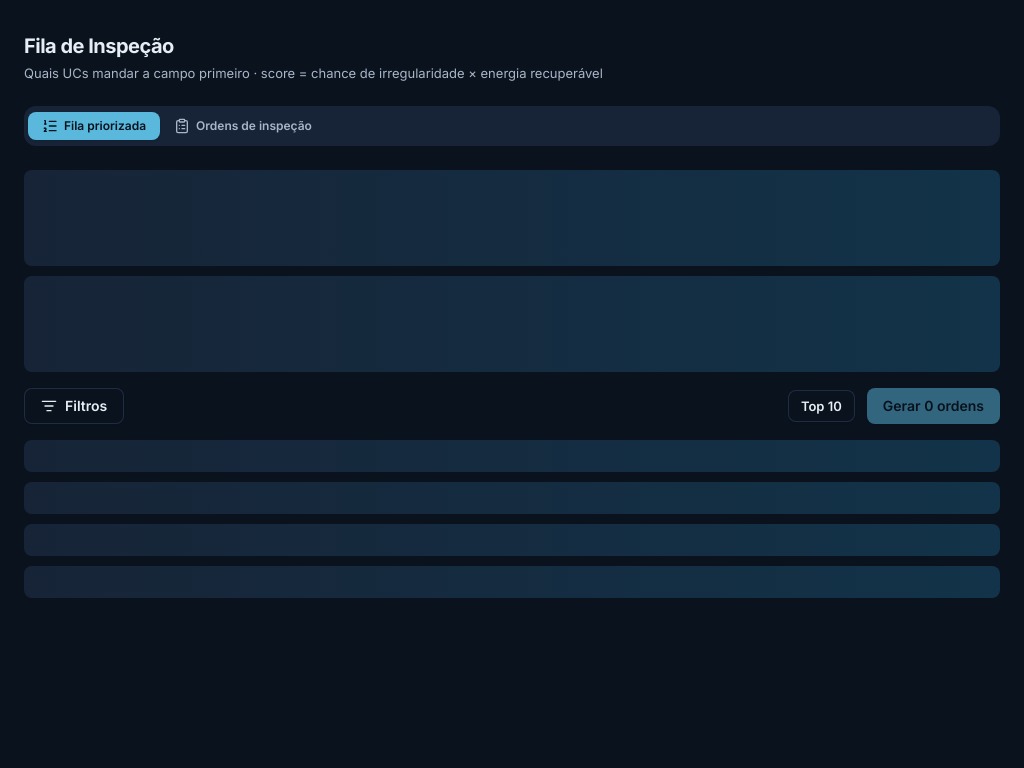
it: LossManagementPage - erros e estados de envio › sinaliza o envio em andamento no cancelamento
This screenshot has width=1024, height=768.
Click the tab "Ordens de inspeção": (243, 126) left=160, top=112, right=326, bottom=140
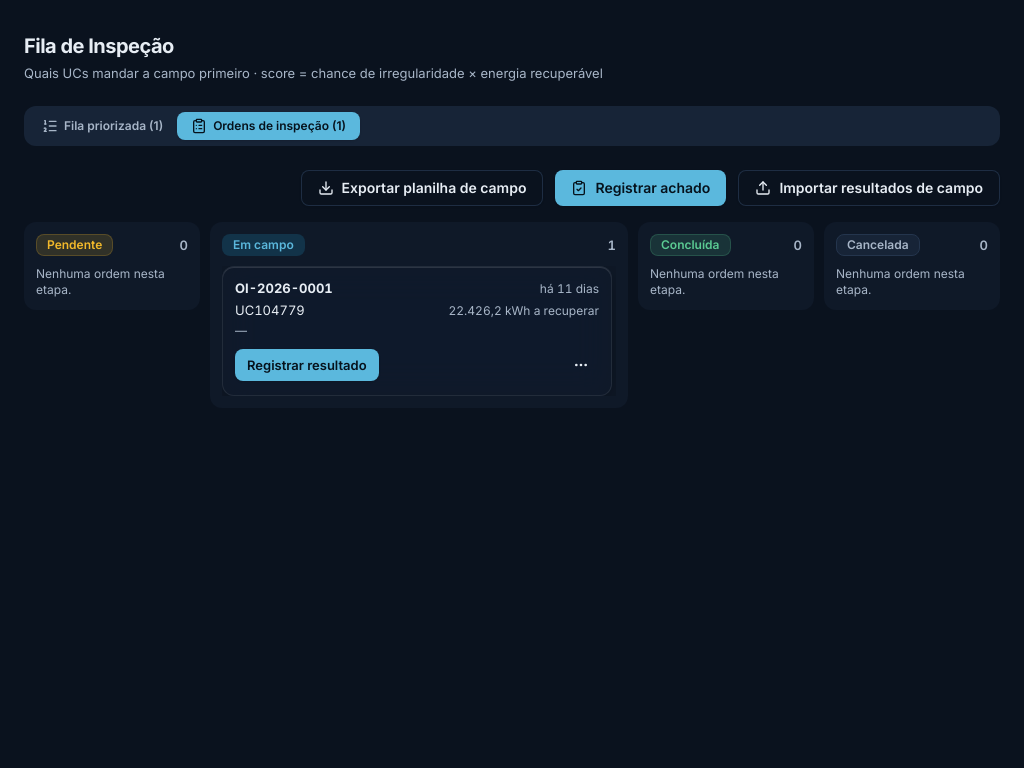
Press Enter in the button named "Mais ações OI-", box left=563, top=347, right=599, bottom=383
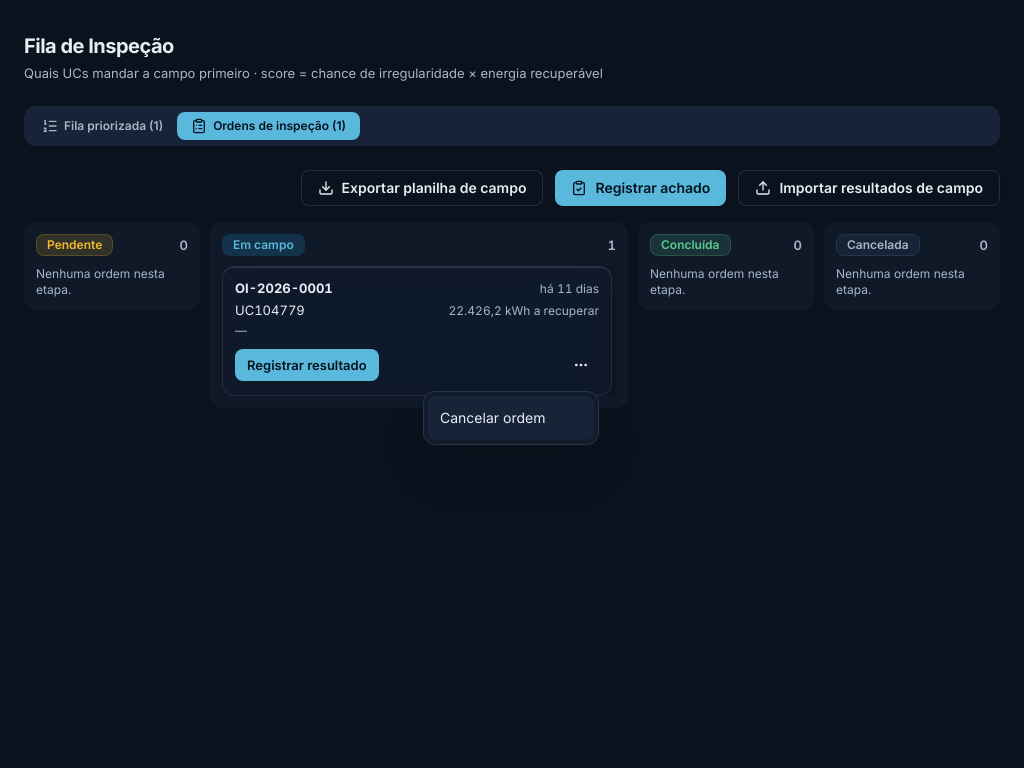
Click the menu item with aria-label "Cancelar OI-": (511, 418) left=428, top=396, right=594, bottom=440
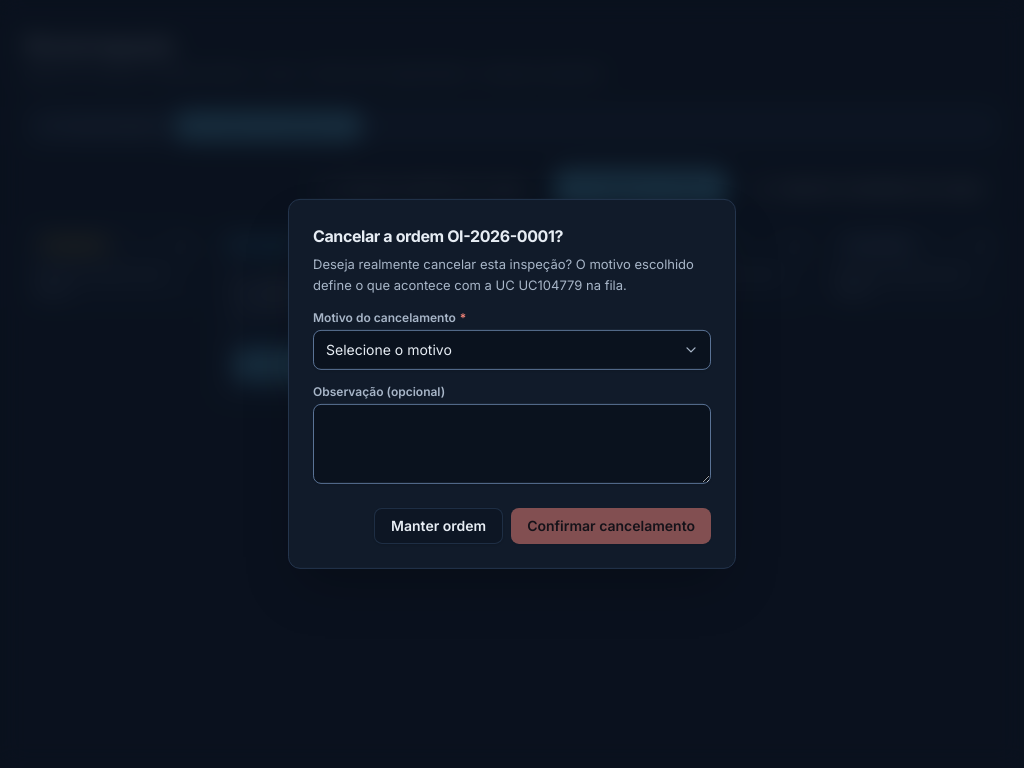
Select "UC regularizada pelo cliente" in the dropdown labelled "Motivo do cancelamento*": (512, 350) left=313, top=330, right=711, bottom=370
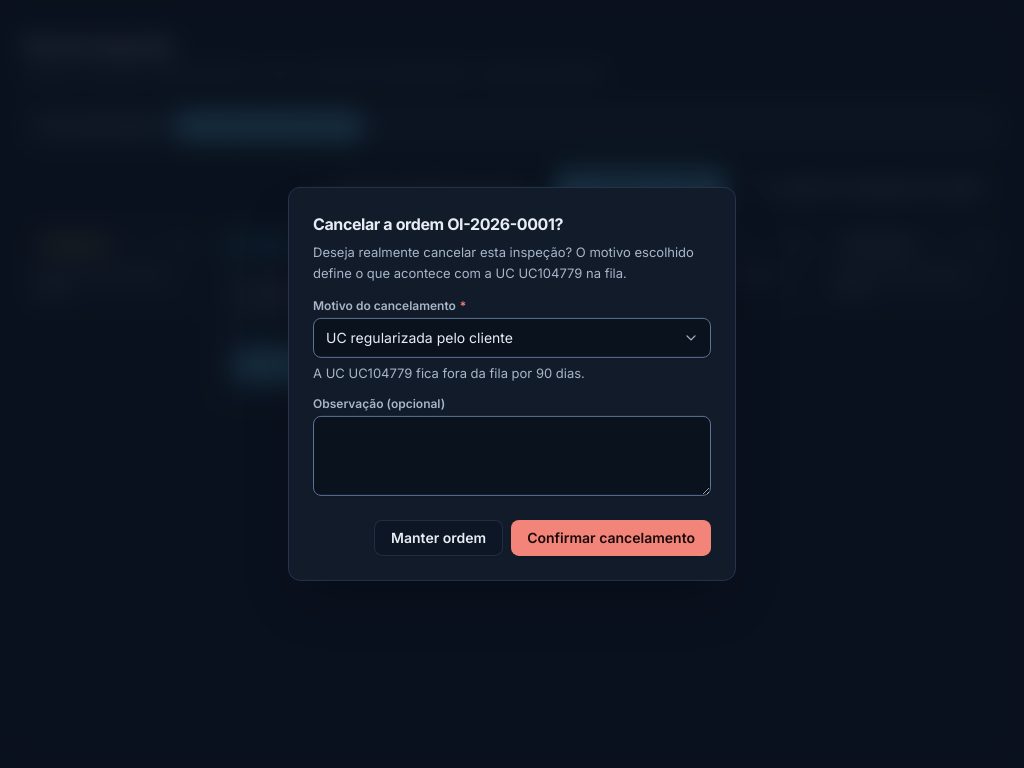
Click the button "Confirmar cancelamento": (611, 538) left=511, top=520, right=711, bottom=556
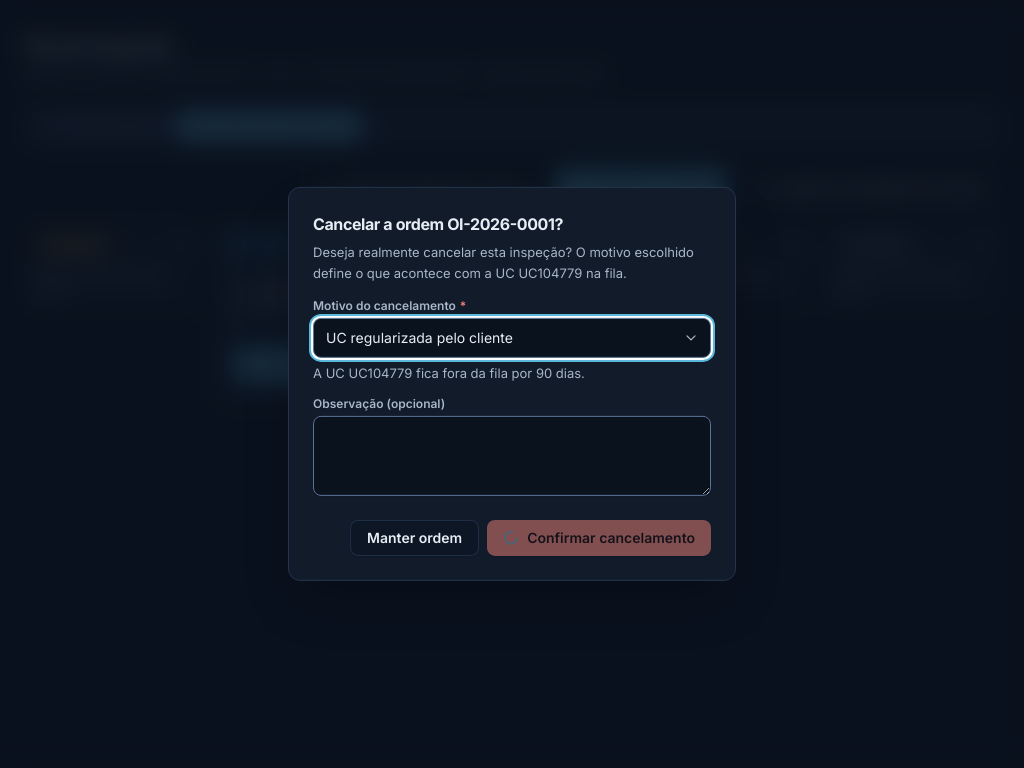
Expected: the button "Confirmar cancelamento" is disabled, left=487, top=520, right=711, bottom=556
